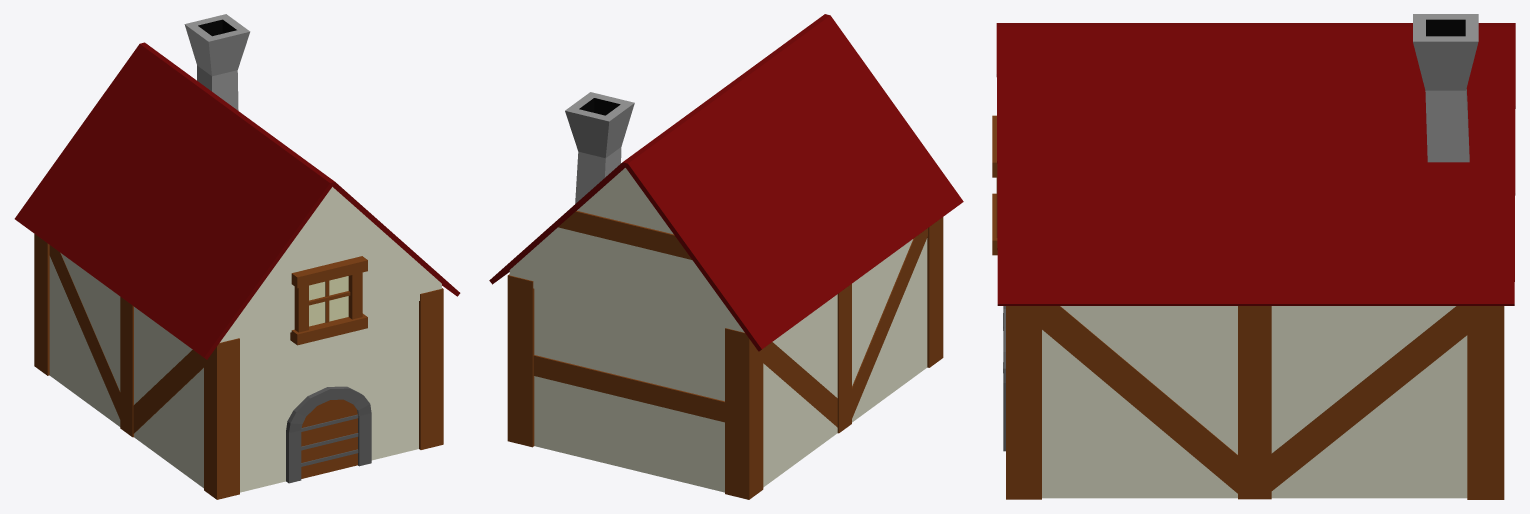
File: House2.fbx
3 renders of one model, left to right at view 1: azimuth 30°, elevation 25°; view 2: azimuth 150°, elevation 25°; view 3: azimuth 270°, elevation 25°, orthographic. The views are drawn at different scales.
Visible parts, largest first — view 1: House2; view 2: House2; view 3: House2.
Boxes of the visible parts, x1,y1,x2,y2 form: House2: (14, 14, 460, 499); House2: (489, 14, 963, 499); House2: (992, 14, 1515, 499).
Bounding box in the file's own units: 1097 × 1287 × 1423.
